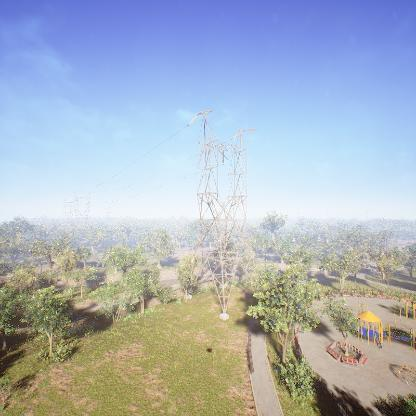tower: (181, 109, 269, 326)
